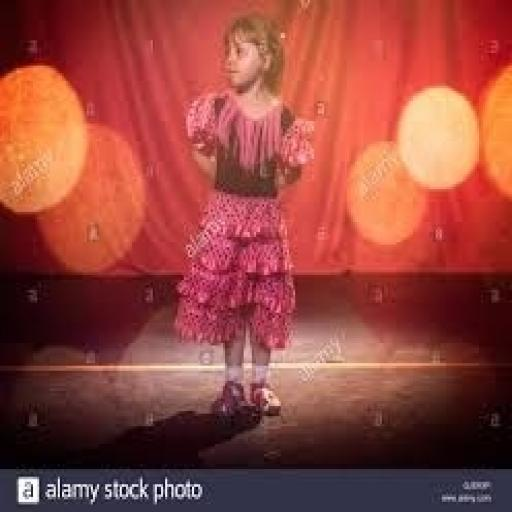dancing: (171, 10, 322, 421)
